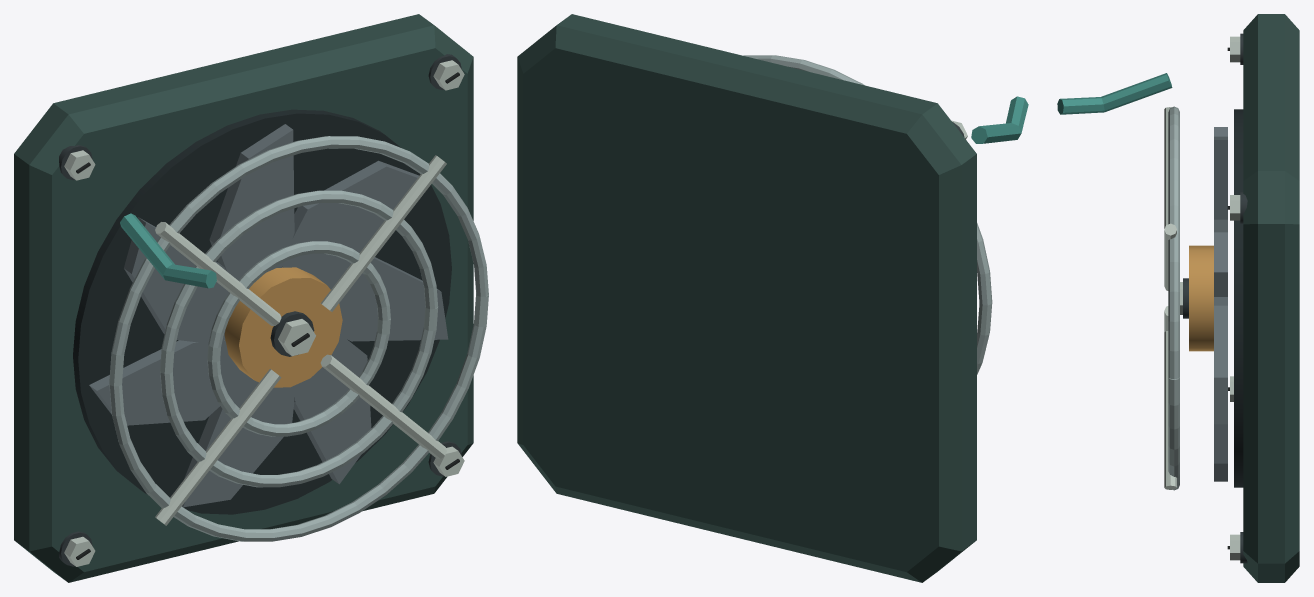
The model's file is scrubber-working.glb.
3 views of the same model, side by side, from view 1: azimuth 30°, elevation 25°; view 2: azimuth 150°, elevation 25°; view 3: azimuth 270°, elevation 25° (orthographic). The views are drawn at different scales.
Visible parts, largest first — view 1: RB_scrubber_working; view 2: RB_scrubber_working; view 3: RB_scrubber_working.
Boxes of the visible parts, bbox=[...] form: RB_scrubber_working: bbox=[14, 14, 488, 582]; RB_scrubber_working: bbox=[517, 14, 1028, 582]; RB_scrubber_working: bbox=[1057, 14, 1299, 582].
Bounding box in the file's own units: 0.385 × 0.388 × 0.2067.
